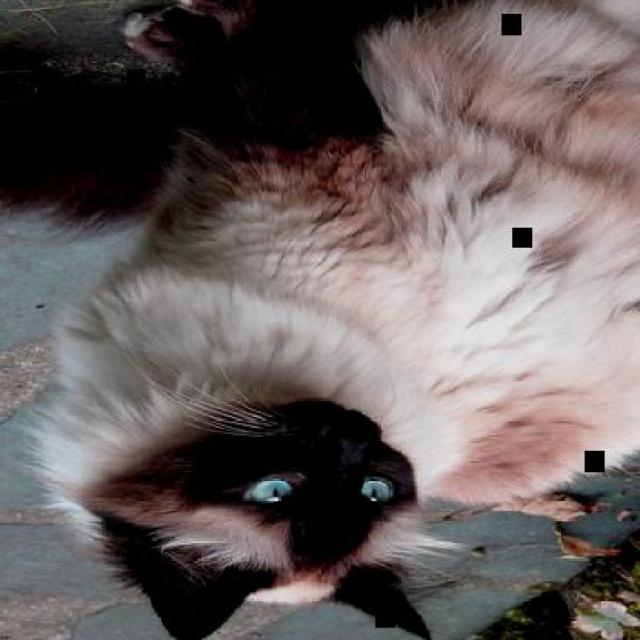cat: (54, 1, 638, 638)
